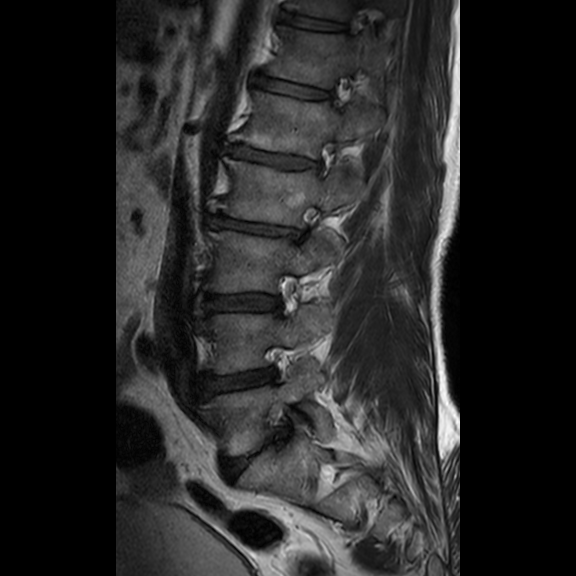RFS0: (266, 260, 307, 332)
RFS1: (260, 333, 300, 394)
